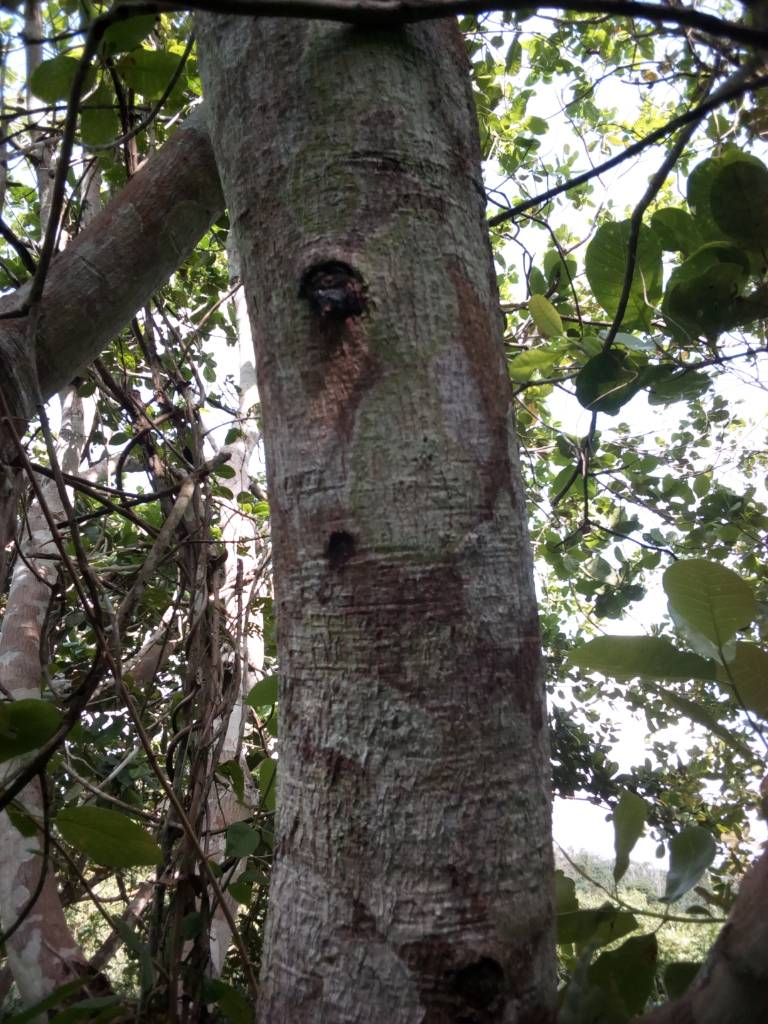Apate terebrans: (272, 226, 414, 363)
